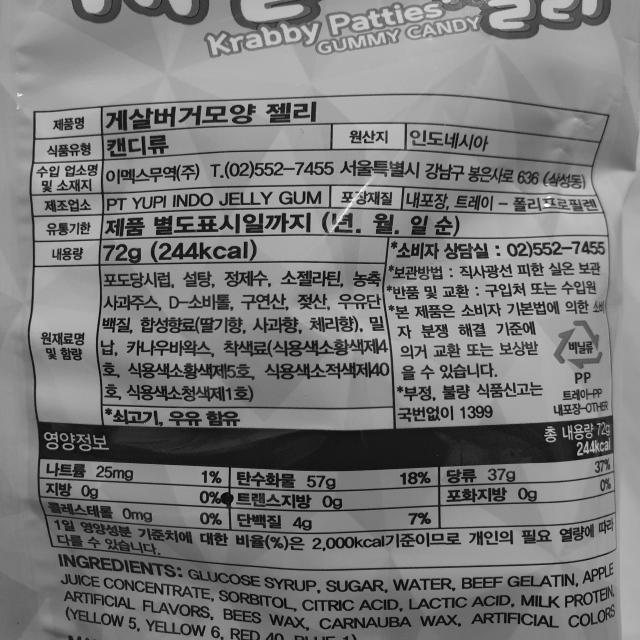Nutrition Label: (30, 416, 626, 572)
